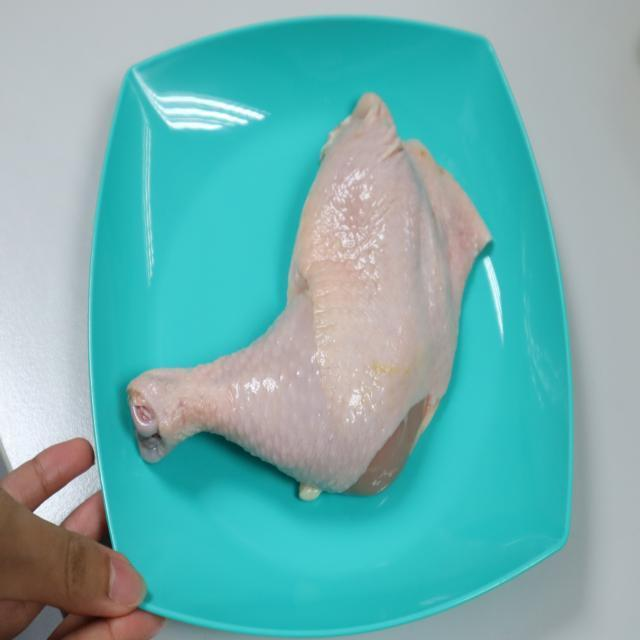quater: (127, 99, 489, 492)
